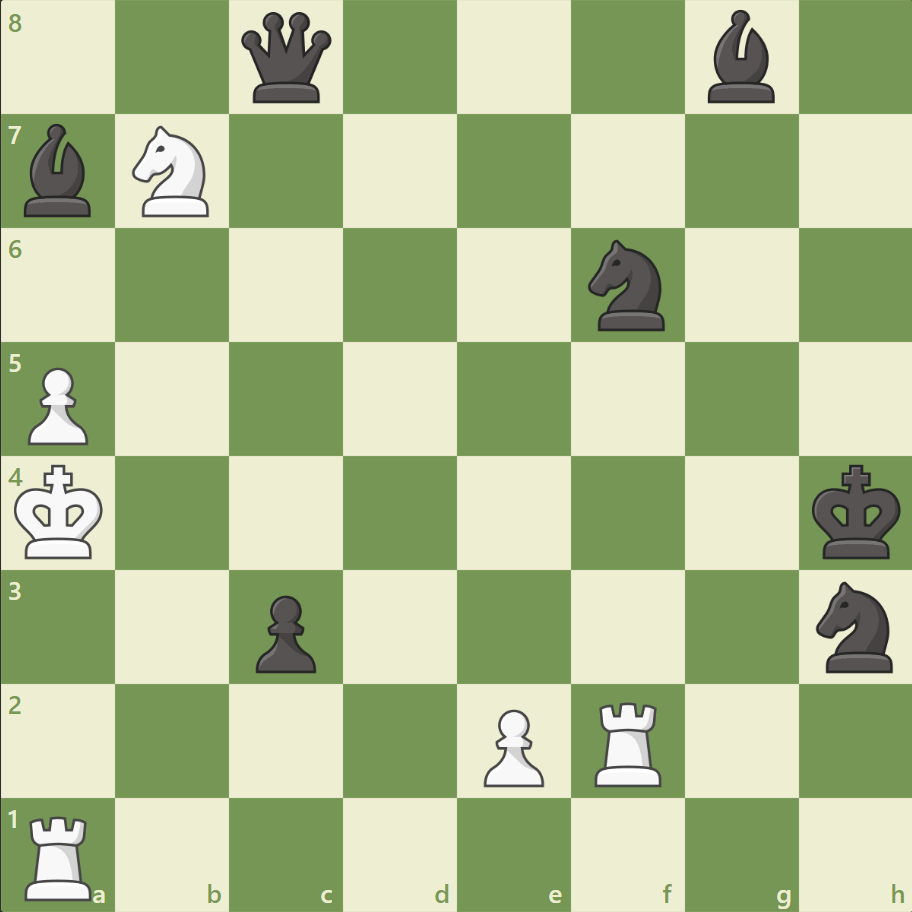K: (11, 458, 111, 566)
N: (124, 121, 222, 223)
P: (20, 359, 95, 450), (474, 700, 549, 791)
R: (19, 806, 102, 904), (587, 693, 670, 790)
b: (698, 6, 782, 109), (17, 120, 101, 222)
k: (806, 458, 906, 566)
n: (579, 234, 676, 337), (806, 575, 903, 677)
p: (247, 586, 322, 677)
q: (237, 9, 336, 108)
